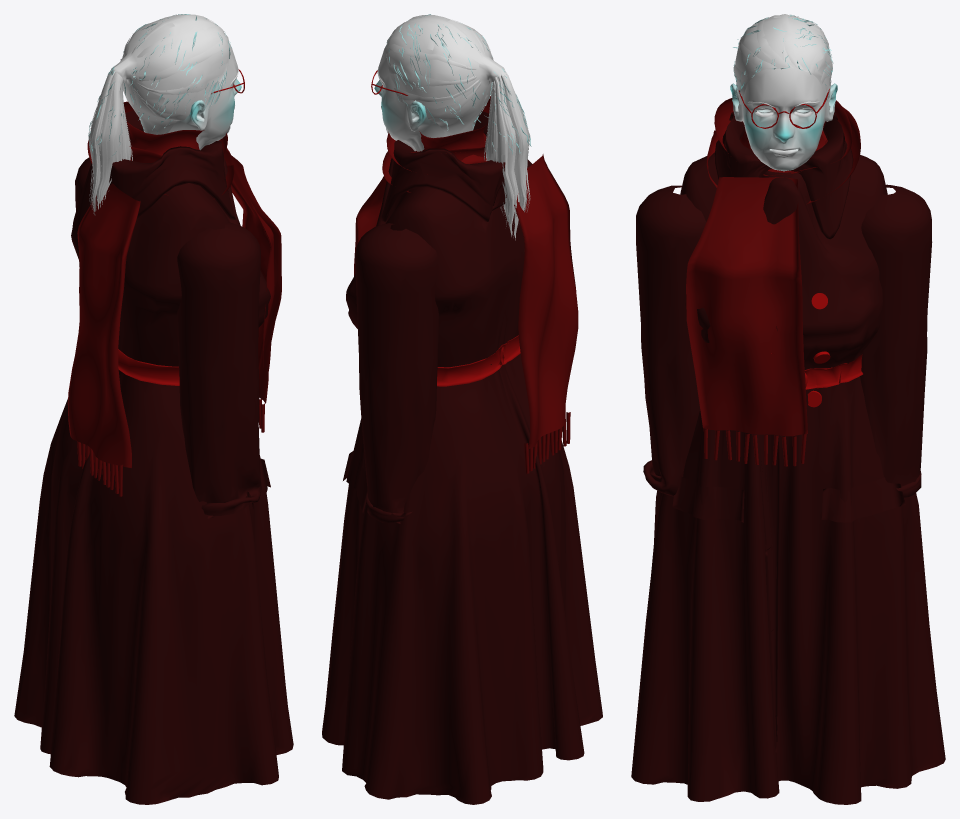
Rendered from mayor_m.glb.
3 views of the same model, side by side, from view 1: azimuth 30°, elevation 25°; view 2: azimuth 150°, elevation 25°; view 3: azimuth 270°, elevation 25° (orthographic). The views are drawn at different scales.
Visible parts, largest first — view 1: ropa, pelo, piel; view 2: ropa, pelo, piel; view 3: ropa, piel, pelo.
Part boxes in pixels (x1,y1,x2,y2): ropa: (14,69,293,804); pelo: (88,14,231,215); piel: (130,43,241,150); ropa: (322,70,602,804); pelo: (385,14,531,240); piel: (374,42,488,151); ropa: (631,89,945,804); piel: (730,68,837,171); pelo: (733,14,833,105).
Bounding box in the file's own units: 0.4031 × 1.26 × 0.4763.
